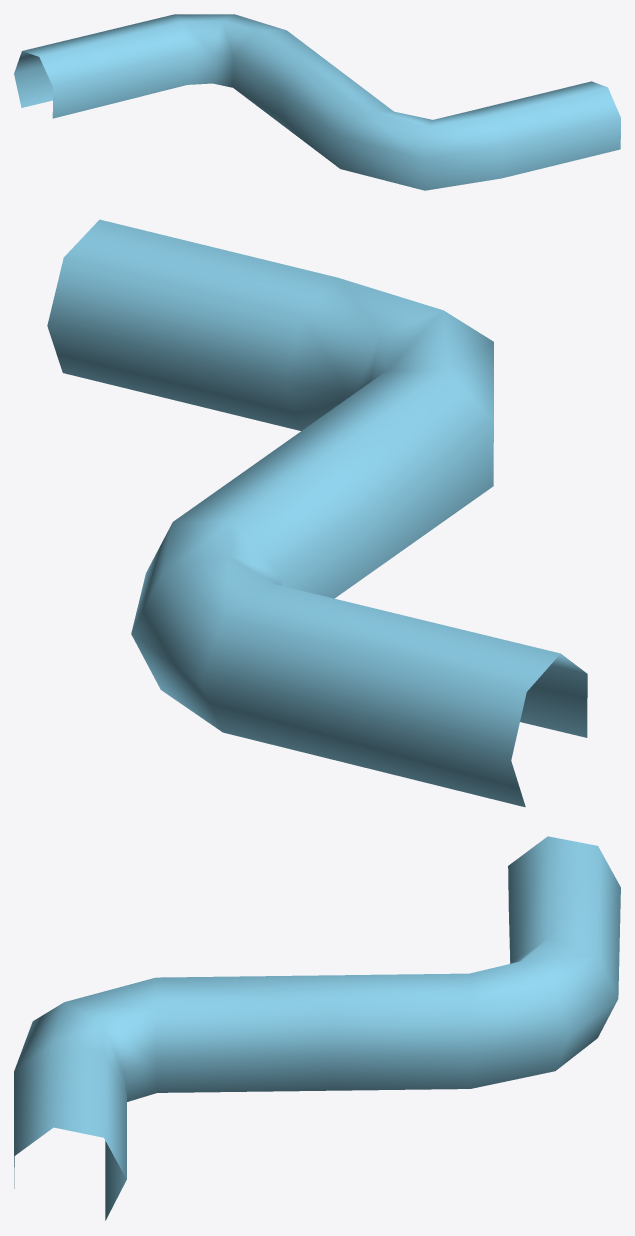
The model's file is Norris_Maze_Blue_Wire_S.fbx.
The picture shows the model from 3 angles, top to bottom: view 1: azimuth 30°, elevation 25°; view 2: azimuth 150°, elevation 25°; view 3: azimuth 270°, elevation 25°; orthographic projection. The views are drawn at different scales.
Parts seen in each view (by area): view 1: WireLong3; view 2: WireLong3; view 3: WireLong3.
Part boxes in pixels (x1=…): WireLong3: x1=14, y1=14, x2=620, y2=190; WireLong3: x1=47, y1=219, x2=587, y2=807; WireLong3: x1=14, y1=836, x2=620, y2=1220.
Bounding box in the file's own units: 6.47 × 1.05 × 5.8.
